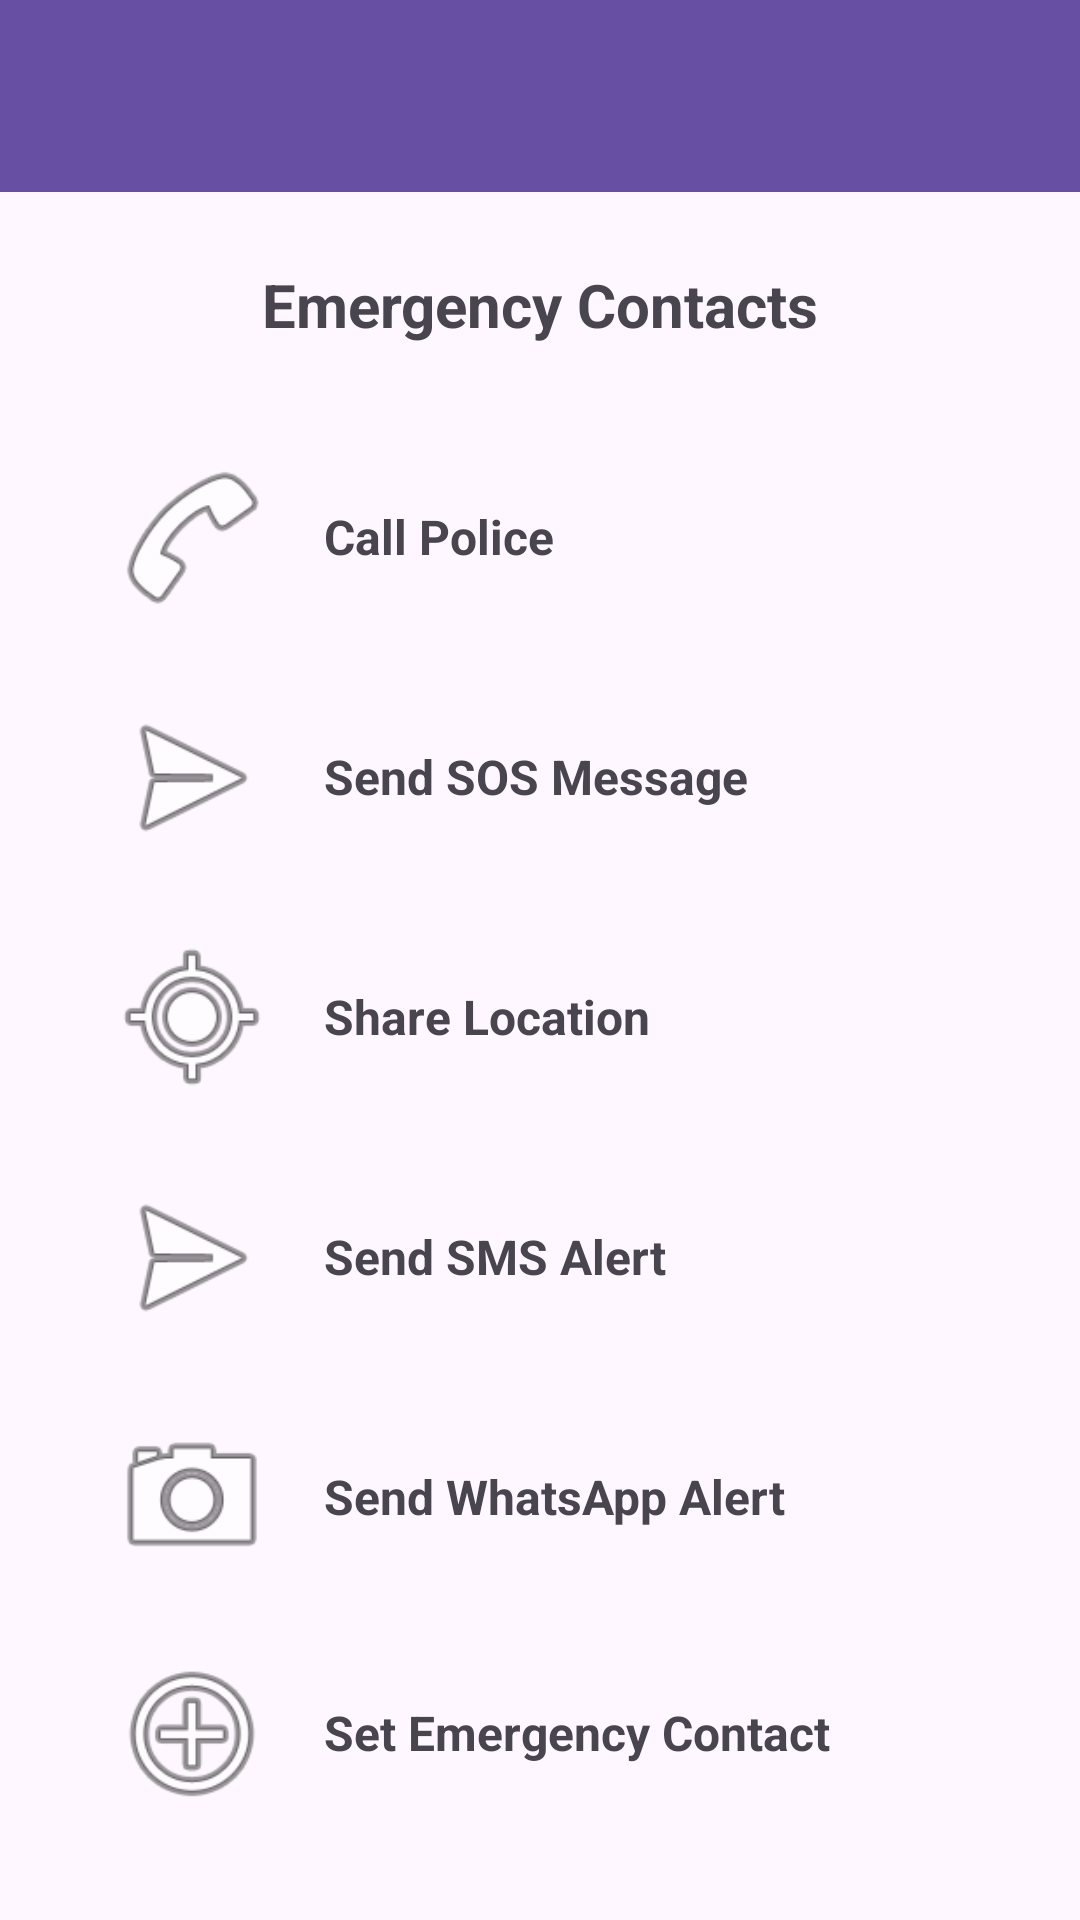

Icons on this 1080 x 1920 Android screen, each with its box as bbox=[x1, y1, x2, y2]:
add: bbox=[129, 1671, 255, 1796]
camera: bbox=[127, 1443, 257, 1546]
mylocation: bbox=[125, 950, 259, 1084]
